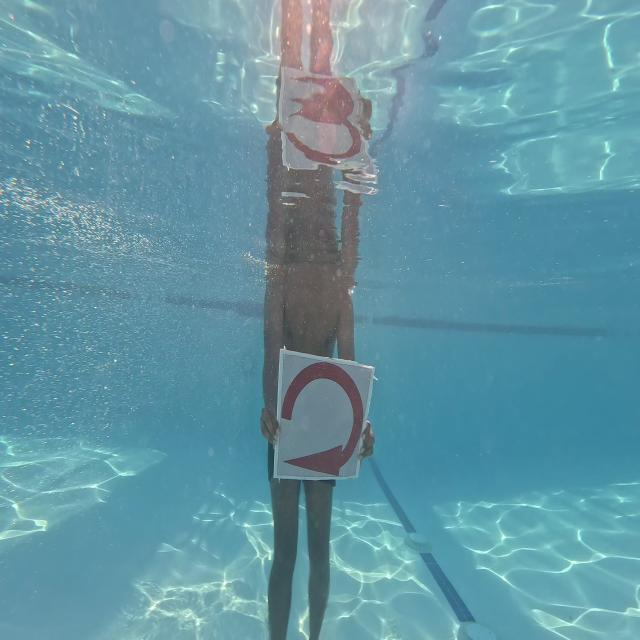red_side: (274, 350, 366, 482)
